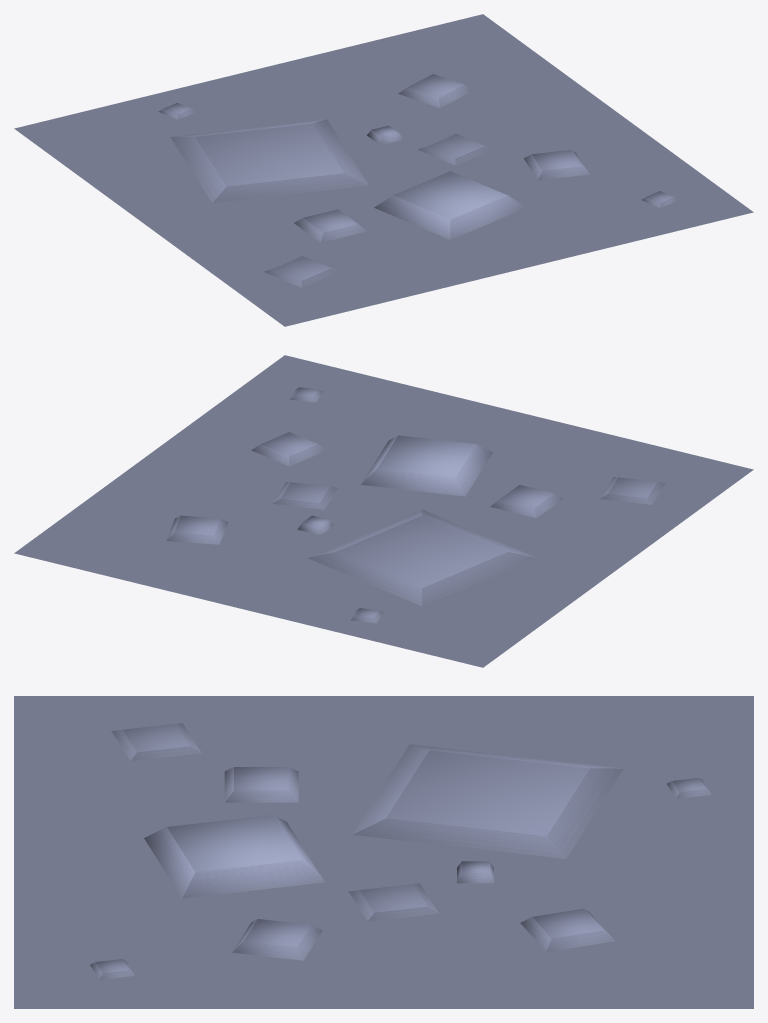
Rendered from floor_decor2_2.glb.
The picture shows the model from 3 angles, top to bottom: view 1: azimuth 30°, elevation 25°; view 2: azimuth 150°, elevation 25°; view 3: azimuth 270°, elevation 25°; orthographic projection. The views are drawn at different scales.
Visible parts, largest first — view 1: floor-detail; view 2: floor-detail; view 3: floor-detail.
Boxes of the visible parts, x1,y1,x2,y2 form: floor-detail: (14,14,753,326); floor-detail: (14,355,753,667); floor-detail: (14,696,753,1008).
Size of the model in its own units: 2 by 0.05 by 2.
1 material, 1 textured.
